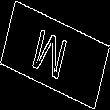M_S: (34, 24, 76, 86)
